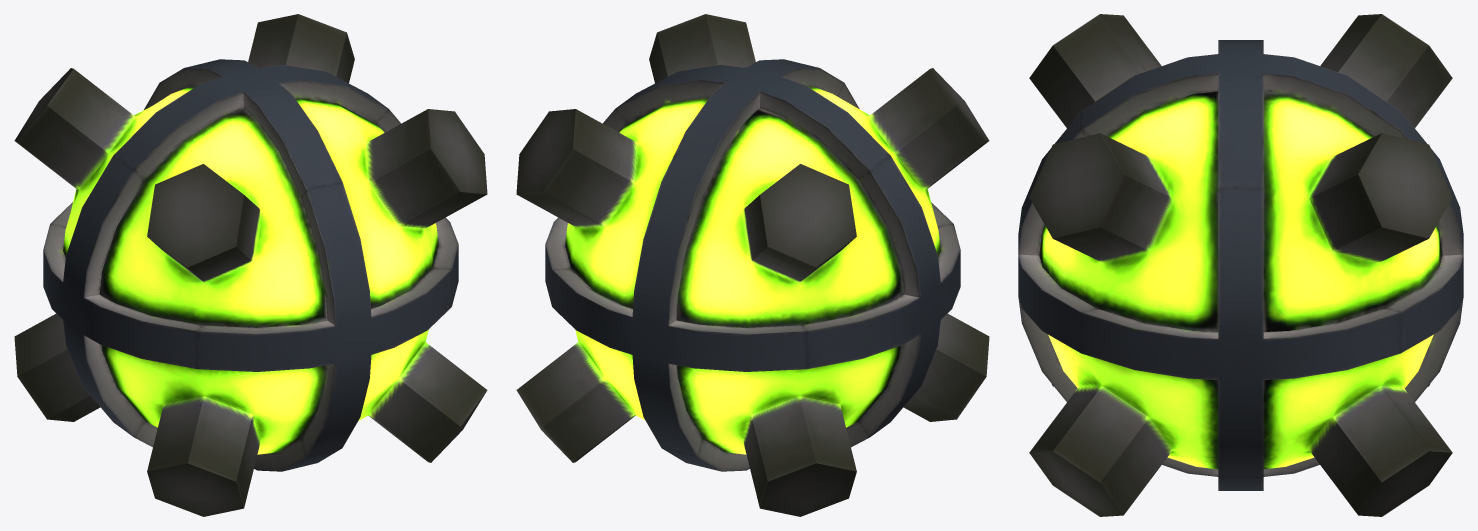
File: EnergyBallGreen.fbx
3 views of the same model, side by side, from view 1: azimuth 30°, elevation 25°; view 2: azimuth 150°, elevation 25°; view 3: azimuth 270°, elevation 25° (orthographic). The views are drawn at different scales.
Visible parts, largest first — view 1: granade_03; view 2: granade_03; view 3: granade_03.
Boxes of the visible parts, <box> form: granade_03: <box>14,14,487,516</box>; granade_03: <box>516,14,989,516</box>; granade_03: <box>1018,14,1463,516</box>.
Size of the model in its own units: 65.52 by 65.52 by 65.52.
1 material, 1 textured.
